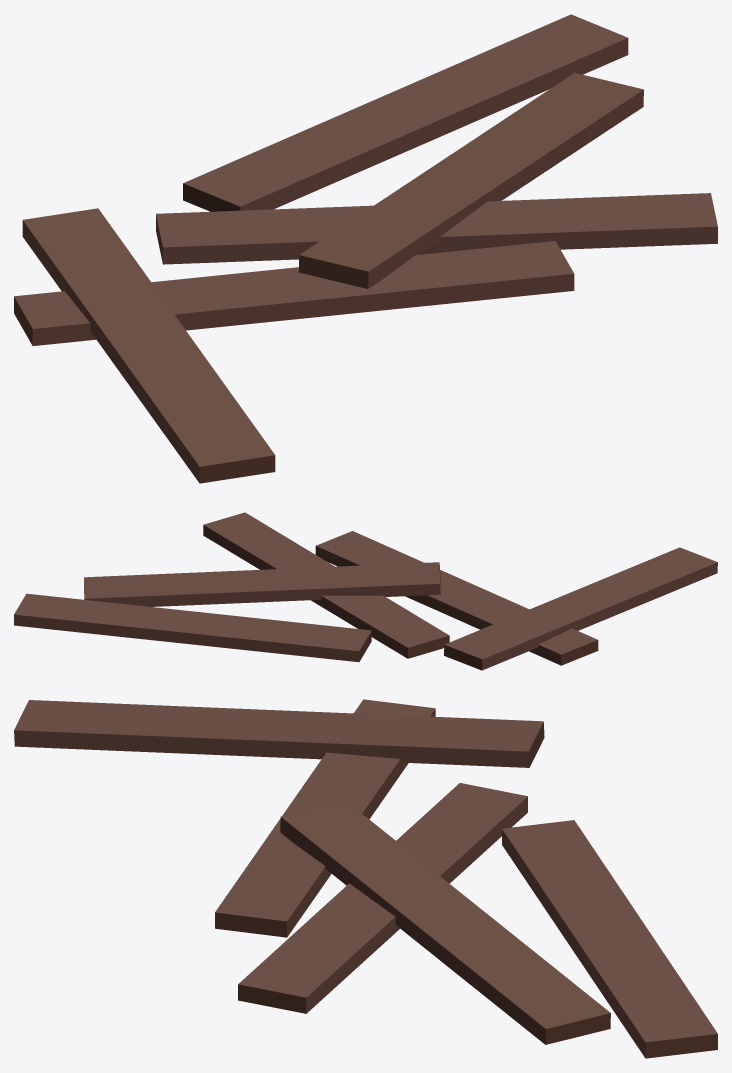
Rendered from SD_Prop_PanksRed_03.fbx.
The picture shows the model from 3 angles, top to bottom: view 1: azimuth 30°, elevation 25°; view 2: azimuth 150°, elevation 25°; view 3: azimuth 270°, elevation 25°; orthographic projection. The views are drawn at different scales.
Parts seen in each view (by area): view 1: SD_Prop_PanksRed_03; view 2: SD_Prop_PanksRed_03; view 3: SD_Prop_PanksRed_03.
Part boxes in pixels (<box>): SD_Prop_PanksRed_03: <box>14,14,717,483</box>; SD_Prop_PanksRed_03: <box>14,512,717,670</box>; SD_Prop_PanksRed_03: <box>14,699,717,1058</box>.
Size of the model in its own units: 6.46 by 0.344 by 5.52.
